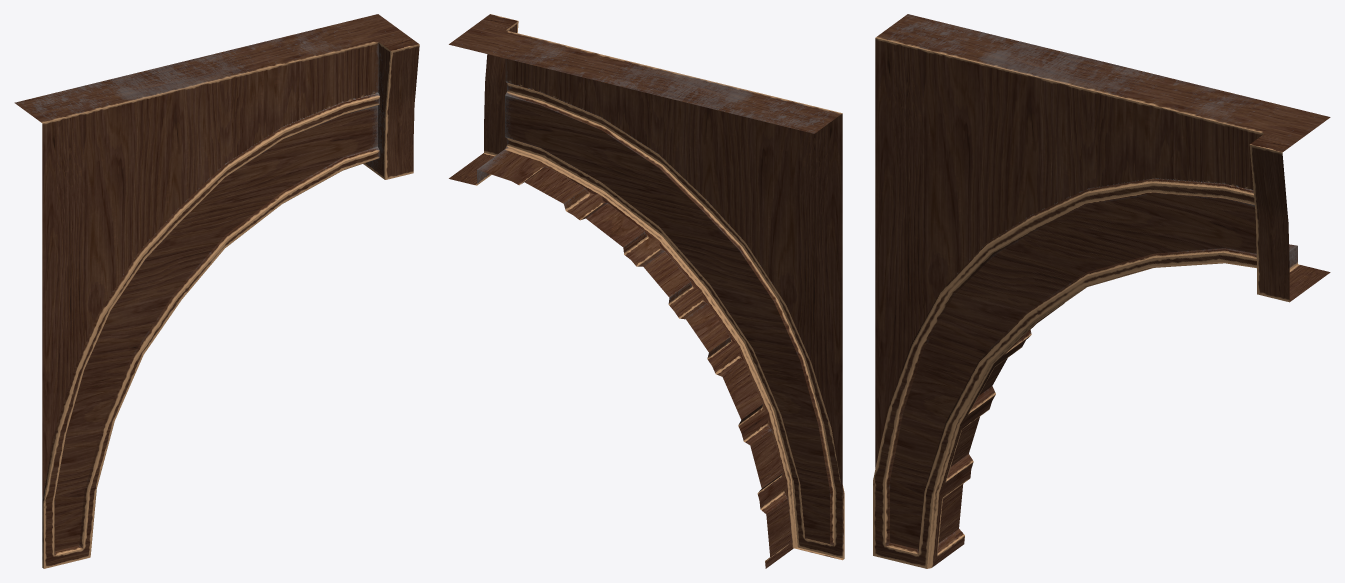
File: ST_InteriorWall_Valve_Half_01.fbx
3 views of the same model, side by side, from view 1: azimuth 30°, elevation 25°; view 2: azimuth 150°, elevation 25°; view 3: azimuth 330°, elevation 25° (orthographic). The views are drawn at different scales.
Parts seen in each view (by area): view 1: ST_InteriorWall_Valve_Half_01; view 2: ST_InteriorWall_Valve_Half_01; view 3: ST_InteriorWall_Valve_Half_01.
Boxes of the visible parts, x1,y1,x2,y2 form: ST_InteriorWall_Valve_Half_01: (14, 14, 419, 568); ST_InteriorWall_Valve_Half_01: (449, 14, 844, 568); ST_InteriorWall_Valve_Half_01: (873, 14, 1330, 568).
Size of the model in its own units: 150 by 175 by 29.66.
Materials: 1 (1 with a texture image).
